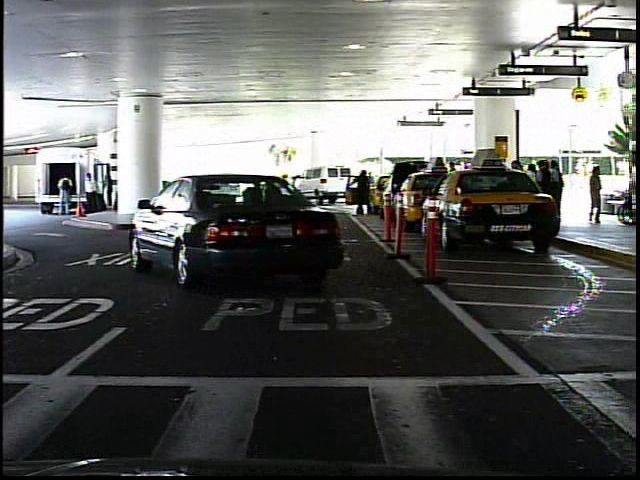person: (587, 163, 607, 226), (350, 166, 372, 219)
